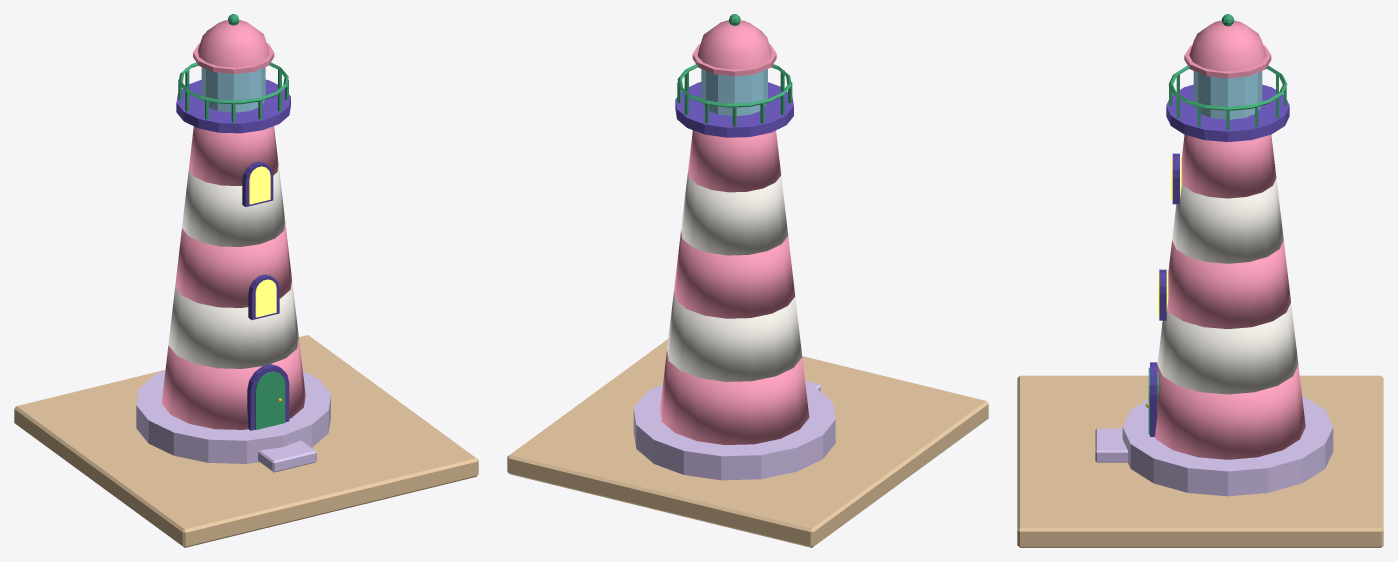
The model's file is bld_lighthouse.glb.
3 renders of one model, left to right at view 1: azimuth 30°, elevation 25°; view 2: azimuth 150°, elevation 25°; view 3: azimuth 270°, elevation 25°, orthographic. The views are drawn at different scales.
Visible parts, largest first — view 1: bld_lighthouse; view 2: bld_lighthouse; view 3: bld_lighthouse.
Part boxes in pixels (bbox=[...]): bld_lighthouse: bbox=[14, 14, 478, 547]; bld_lighthouse: bbox=[507, 14, 988, 547]; bld_lighthouse: bbox=[1017, 14, 1383, 547].
Size of the model in its own units: 8 by 11.02 by 8.
